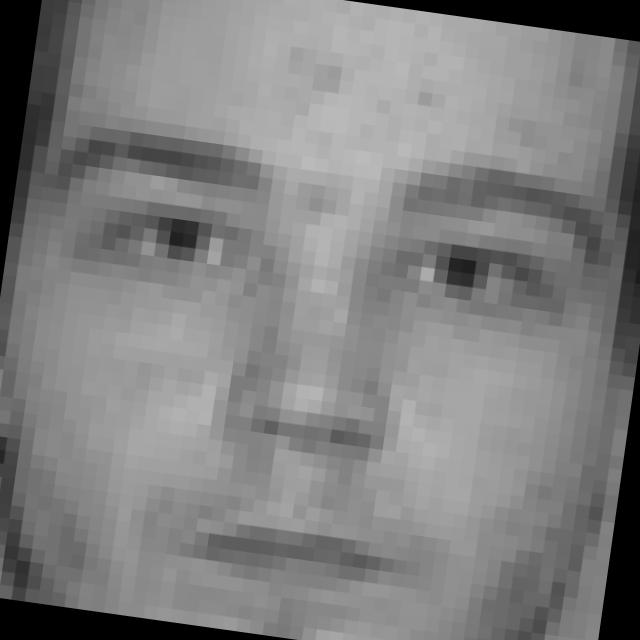neutral: (0, 99, 607, 633)
